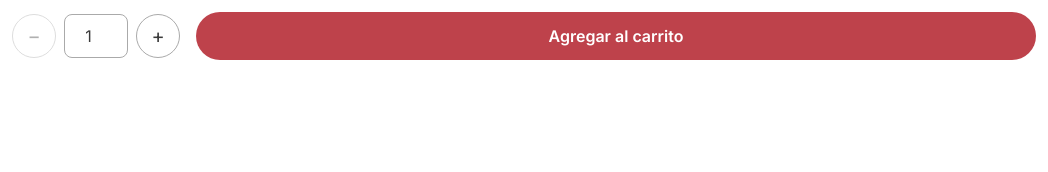
Test case: AddToCart › shows the legacy failure message and still stores a cart created before the failure
The image size is (1048, 172).
Click the button "Agregar al carrito": (616, 36) left=196, top=12, right=1036, bottom=60
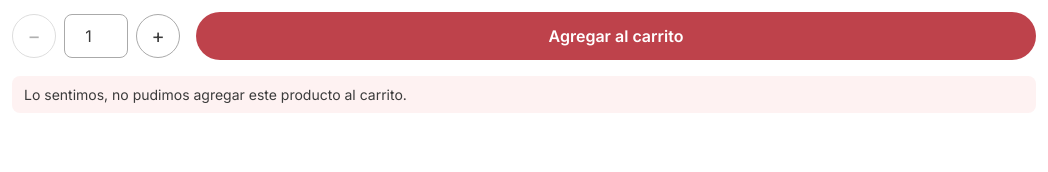
Check: the message reads "Lo sentimos, no pudimos agregar este producto al carrito.", box left=24, top=86, right=407, bottom=103
